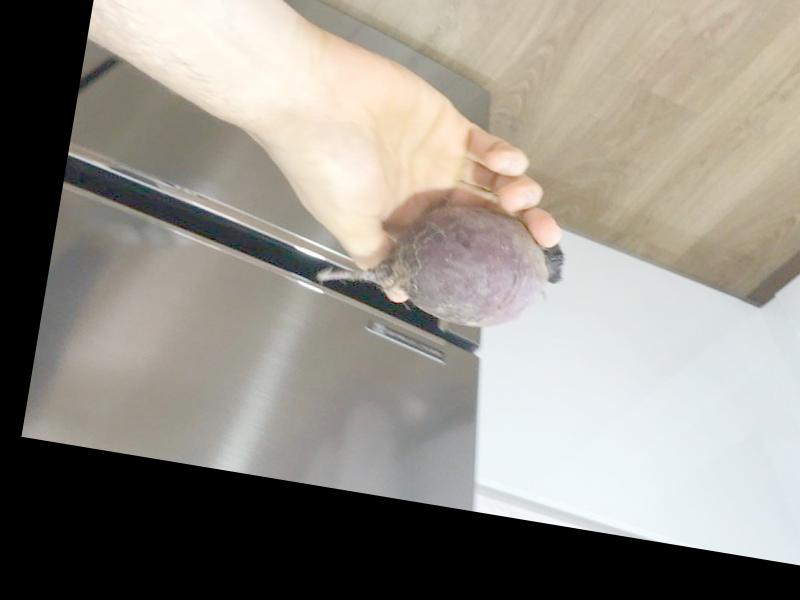Beet: (317, 186, 572, 338)
